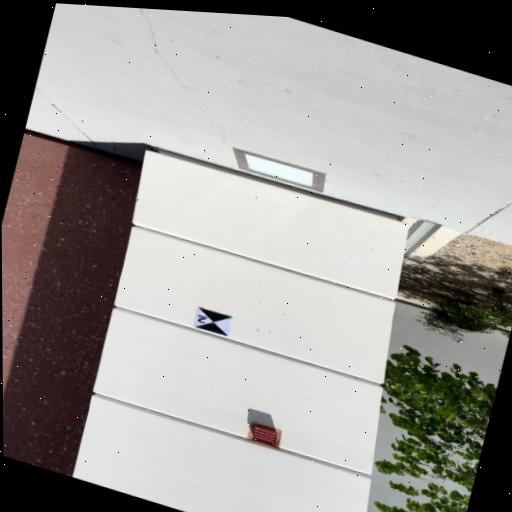target2: (194, 307, 232, 337)
